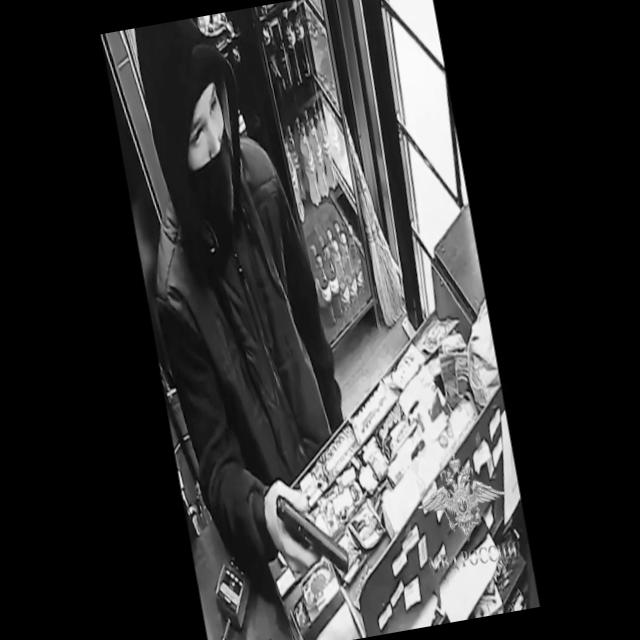gun: (257, 464, 348, 584)
person with a gun: (122, 39, 369, 592)
